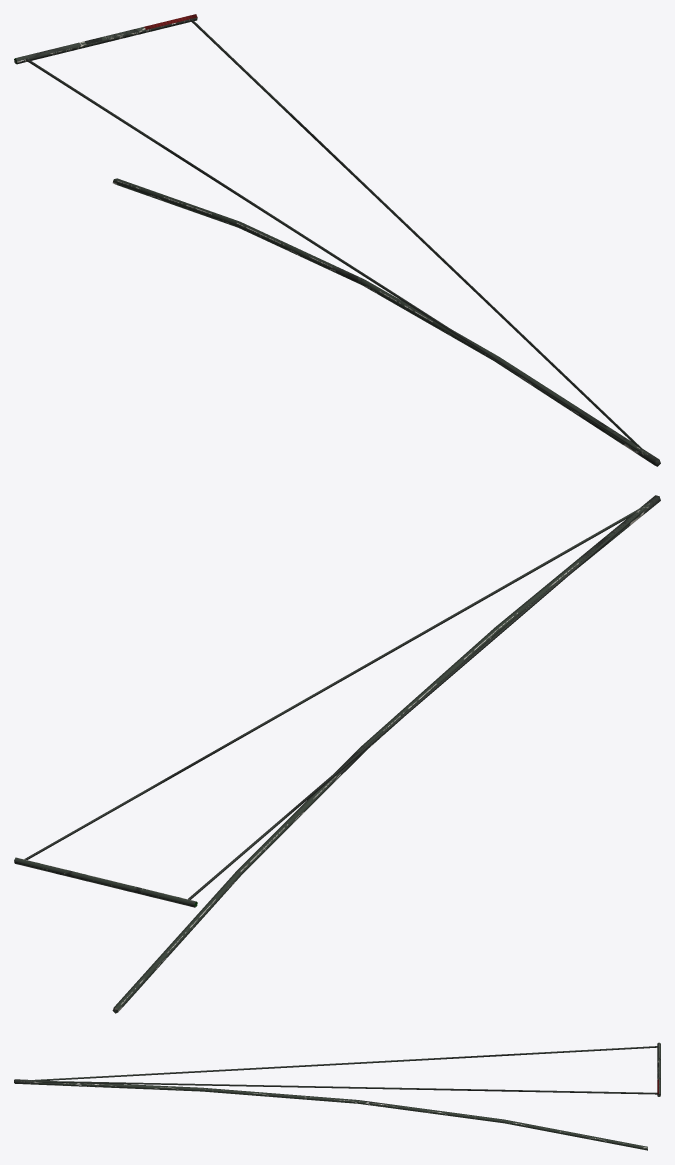
The model's file is SupportBeam_Long.fbx.
3 views of the same model, one above another, from view 1: azimuth 30°, elevation 25°; view 2: azimuth 150°, elevation 25°; view 3: azimuth 270°, elevation 25° (orthographic). The views are drawn at different scales.
Visible parts, largest first — view 1: SupportBeam_Long; view 2: SupportBeam_Long; view 3: SupportBeam_Long.
Boxes of the visible parts, x1,y1,x2,y2 form: SupportBeam_Long: [14, 14, 660, 466]; SupportBeam_Long: [14, 495, 660, 1013]; SupportBeam_Long: [14, 1042, 660, 1150].
Size of the model in its own units: 202 by 151 by 1076.
